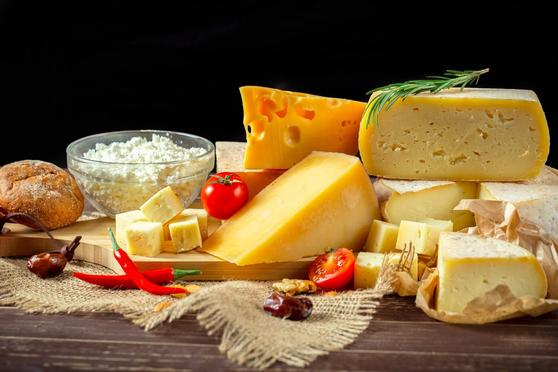cheese: (359, 82, 554, 192), (239, 83, 371, 173)
